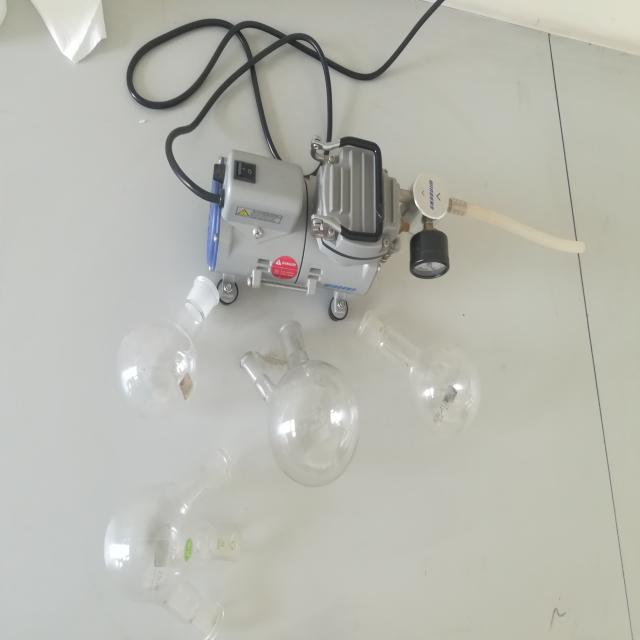Round_Bottom_Flask_Borosilicate_Glass_1_Neck: (346, 286, 510, 456), (104, 220, 235, 423)
Round_Bottom_Flask_Borosilicate_Glass_2_Neck: (230, 284, 374, 504)
Round_Bottom_Flask_Borosilicate_Glass_3_Neck: (74, 447, 265, 640)
